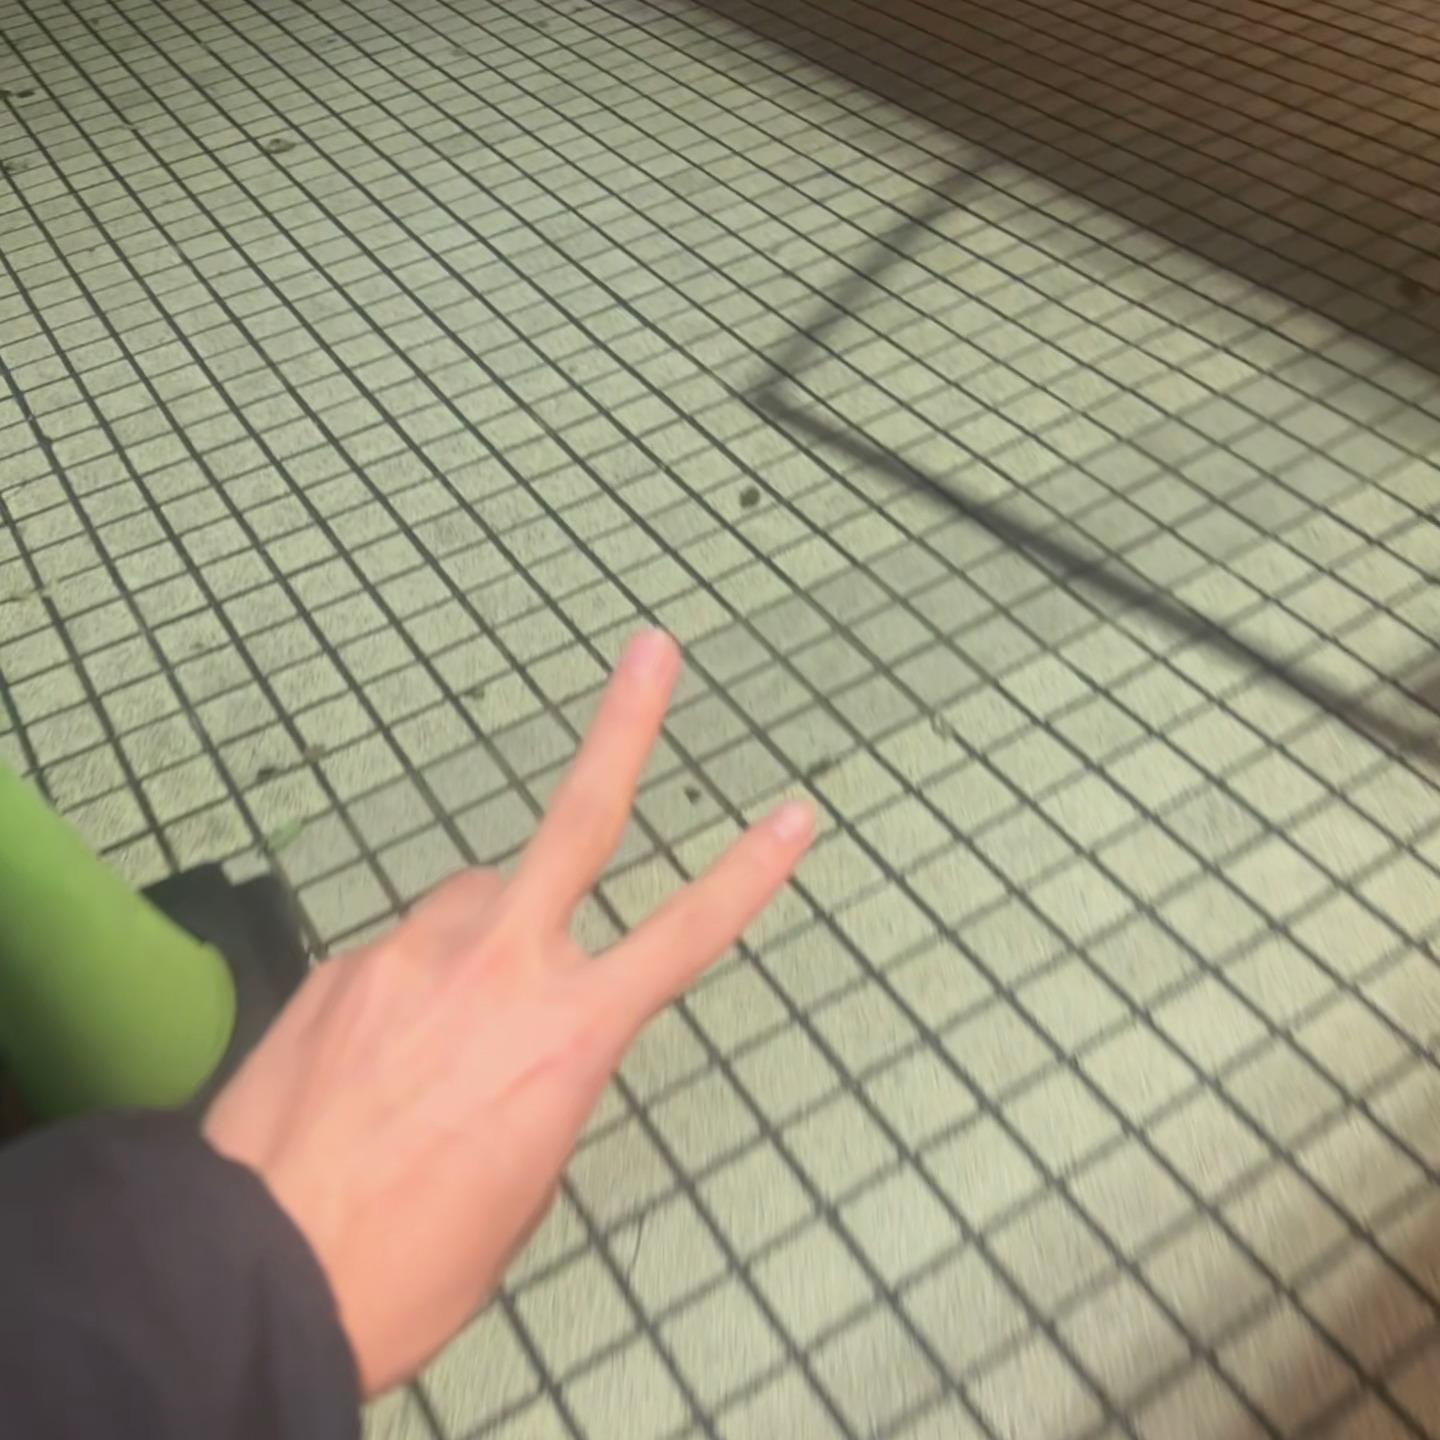without_gloves: (157, 459, 952, 1276)
